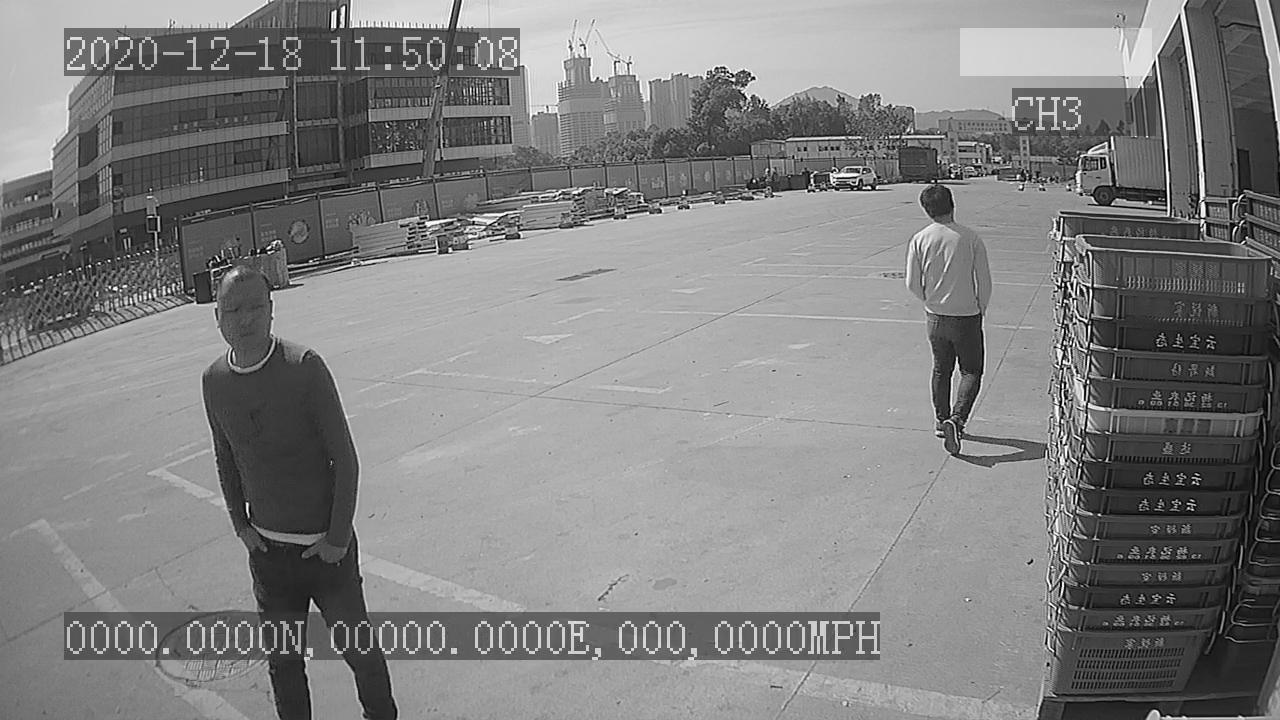person: (901, 183, 995, 461)
